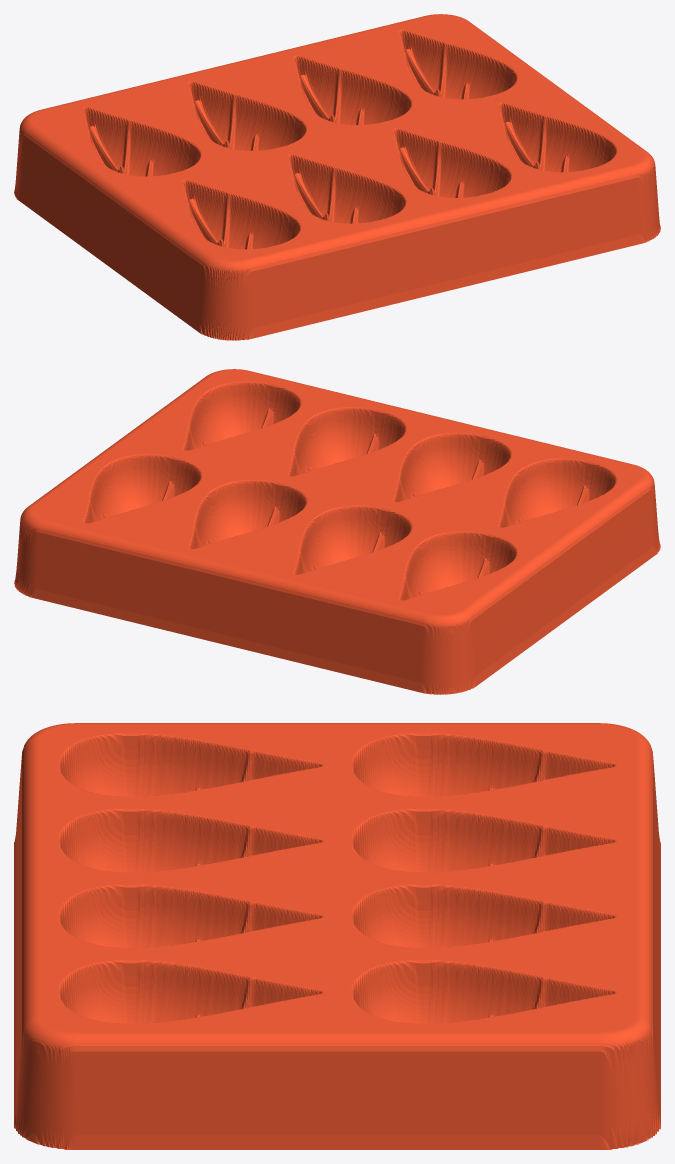
Rendered from mold.glb.
3 views of the same model, one above another, from view 1: azimuth 30°, elevation 25°; view 2: azimuth 150°, elevation 25°; view 3: azimuth 270°, elevation 25° (orthographic). The views are drawn at different scales.
Parts seen in each view (by area): view 1: geometry_0; view 2: geometry_0; view 3: geometry_0.
Part boxes in pixels (left/top/right/bottom): geometry_0: left=14, top=14, right=660, bottom=340; geometry_0: left=14, top=369, right=660, bottom=694; geometry_0: left=14, top=723, right=660, bottom=1149.
Bounding box in the file's own units: 0.1148 × 0.0175 × 0.0956.
